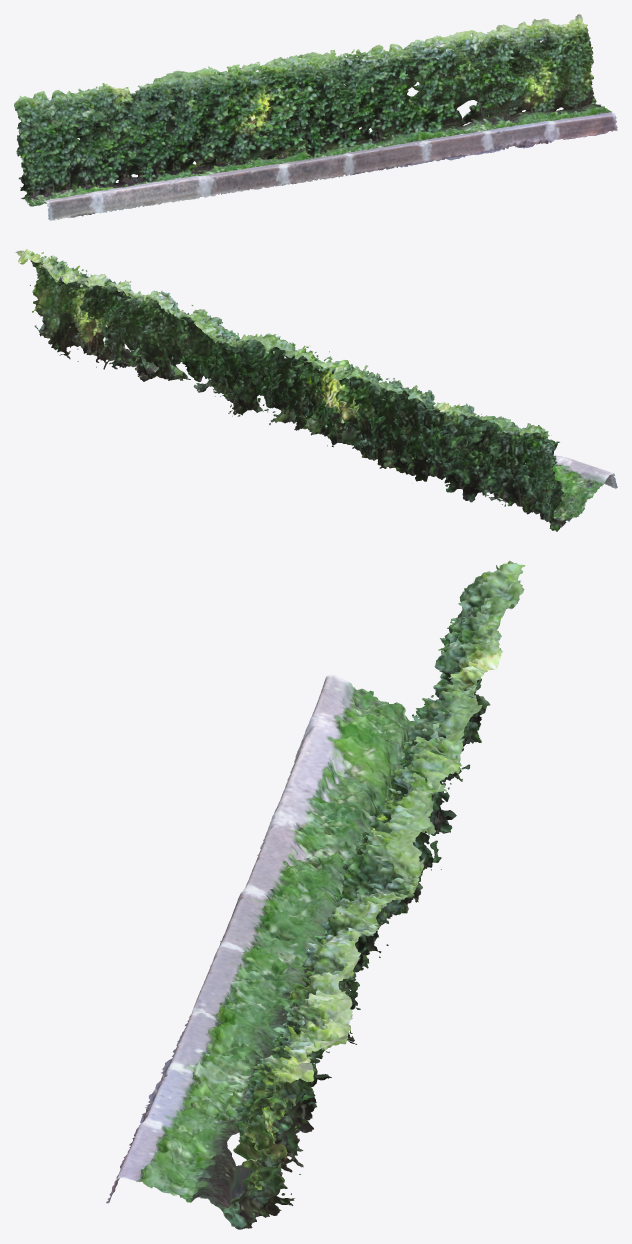
Rendered from Hàng rào cây.glb.
The picture shows the model from 3 angles, top to bottom: view 1: azimuth 30°, elevation 25°; view 2: azimuth 150°, elevation 25°; view 3: azimuth 270°, elevation 25°; orthographic projection. The views are drawn at different scales.
Visible parts, largest first — view 1: Object_4, Object_3, Object_2, Object_5, Object_6; view 2: Object_3, Object_5, Object_6, Object_2, Object_4; view 3: Object_4, Object_2, Object_3, Object_5, Object_6.
Part boxes in pixels (x1,y1,x2,y2): Object_4: (20, 85, 617, 220); Object_3: (17, 38, 604, 195); Object_2: (14, 14, 590, 132); Object_5: (21, 24, 617, 220); Object_6: (16, 58, 593, 170); Object_3: (31, 260, 559, 526); Object_5: (32, 252, 613, 531); Object_6: (30, 276, 563, 492); Object_2: (15, 249, 559, 448); Object_4: (34, 308, 617, 523); Object_4: (108, 674, 481, 1228); Object_2: (252, 560, 525, 1098); Object_3: (144, 614, 490, 1184); Object_5: (106, 623, 494, 1229); Object_6: (233, 648, 500, 1182).
Bounding box in the file's own units: 17.8 × 2.99 × 6.08.
1 material, 1 textured.
